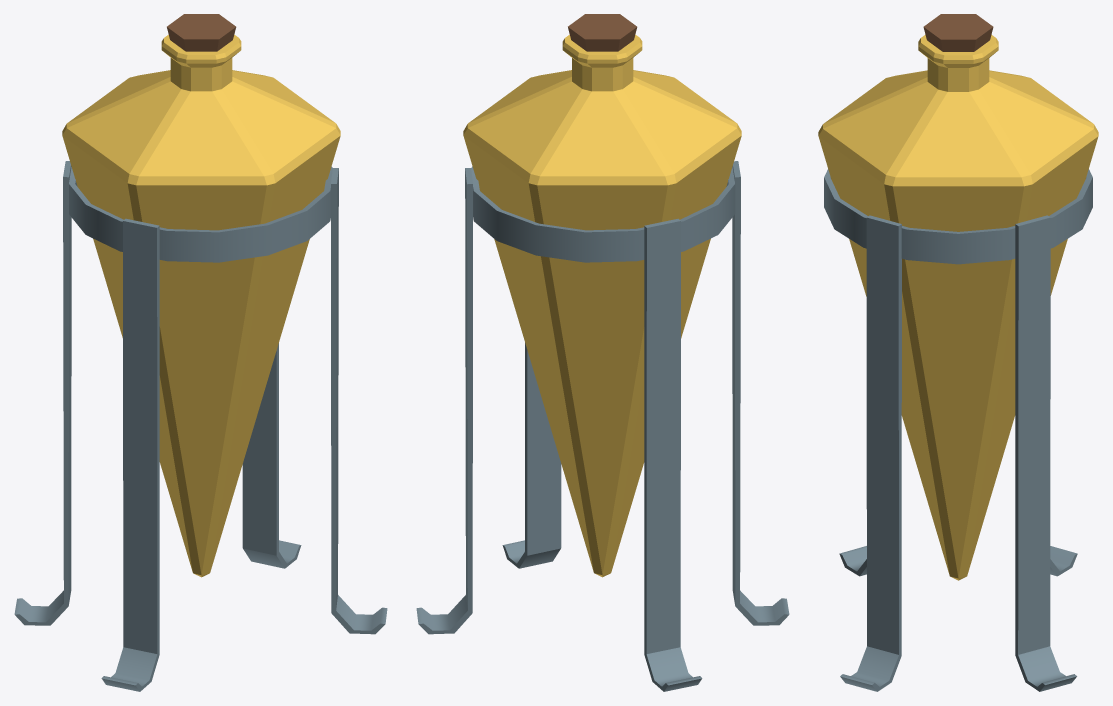
The model's file is Potion_05_Yellow.fbx.
The picture shows the model from 3 angles, left to right: view 1: azimuth 30°, elevation 25°; view 2: azimuth 150°, elevation 25°; view 3: azimuth 270°, elevation 25°; orthographic projection.
Parts seen in each view (by area): view 1: Cone.011, Cube.023, Cylinder.030, Cube.024, Cube.025, Cube.022, Cylinder.031, Cylinder.032; view 2: Cone.011, Cube.025, Cylinder.030, Cube.022, Cube.023, Cube.024, Cylinder.031, Cylinder.032; view 3: Cone.011, Cube.024, Cube.022, Cylinder.030, Cylinder.031, Cylinder.032, Cube.025, Cube.023.
Boxes of the visible parts, box(x1,y1,x2,y2) form: Cone.011: box(62, 70, 340, 577); Cube.023: box(101, 218, 159, 691); Cylinder.030: box(69, 166, 332, 262); Cube.024: box(242, 343, 301, 568); Cube.025: box(14, 161, 71, 625); Cube.022: box(331, 168, 387, 634); Cylinder.031: box(161, 34, 241, 91); Cylinder.032: box(167, 14, 236, 51); Cone.011: box(463, 70, 741, 577); Cube.025: box(644, 218, 702, 691); Cylinder.030: box(471, 166, 735, 262); Cube.022: box(502, 343, 561, 568); Cube.023: box(732, 161, 789, 625); Cube.024: box(416, 168, 472, 634); Cylinder.031: box(562, 34, 642, 91); Cylinder.032: box(568, 14, 637, 51); Cone.011: box(818, 70, 1098, 580); Cube.024: box(1015, 215, 1076, 691); Cube.022: box(840, 215, 901, 691); Cylinder.030: box(824, 169, 1092, 264); Cylinder.031: box(918, 34, 998, 91); Cylinder.032: box(923, 14, 993, 51); Cube.025: box(1050, 546, 1077, 576); Cube.023: box(839, 546, 866, 576).
Bounding box in the file's own units: 19.94 × 39.59 × 16.79.
